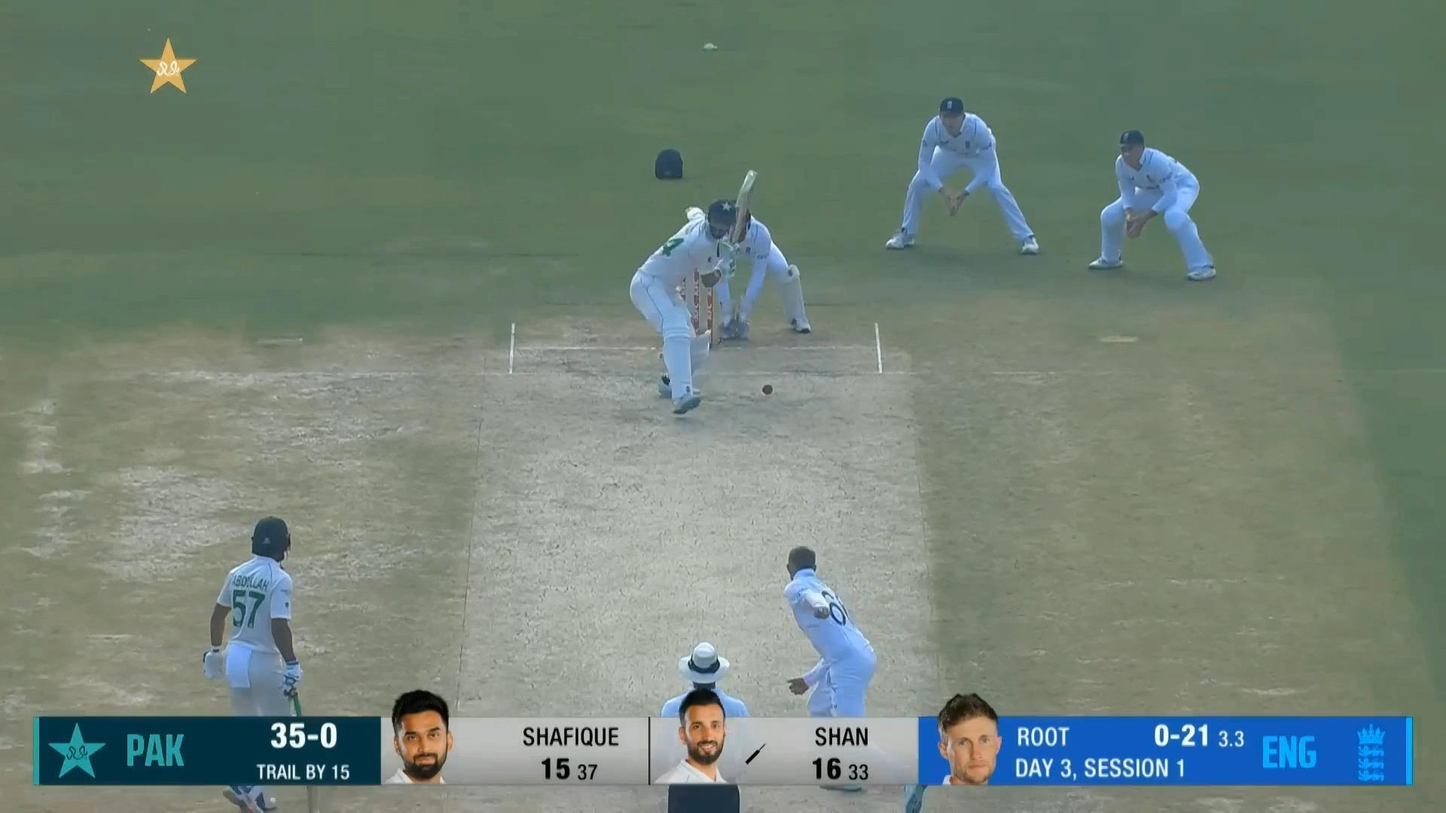BM 1: (627, 167, 761, 416)
BO: (782, 545, 877, 792)
